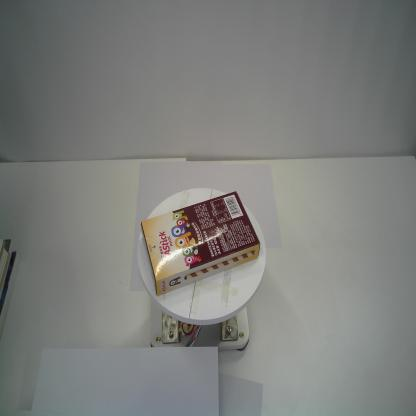Dessert: (138, 189, 261, 298)
